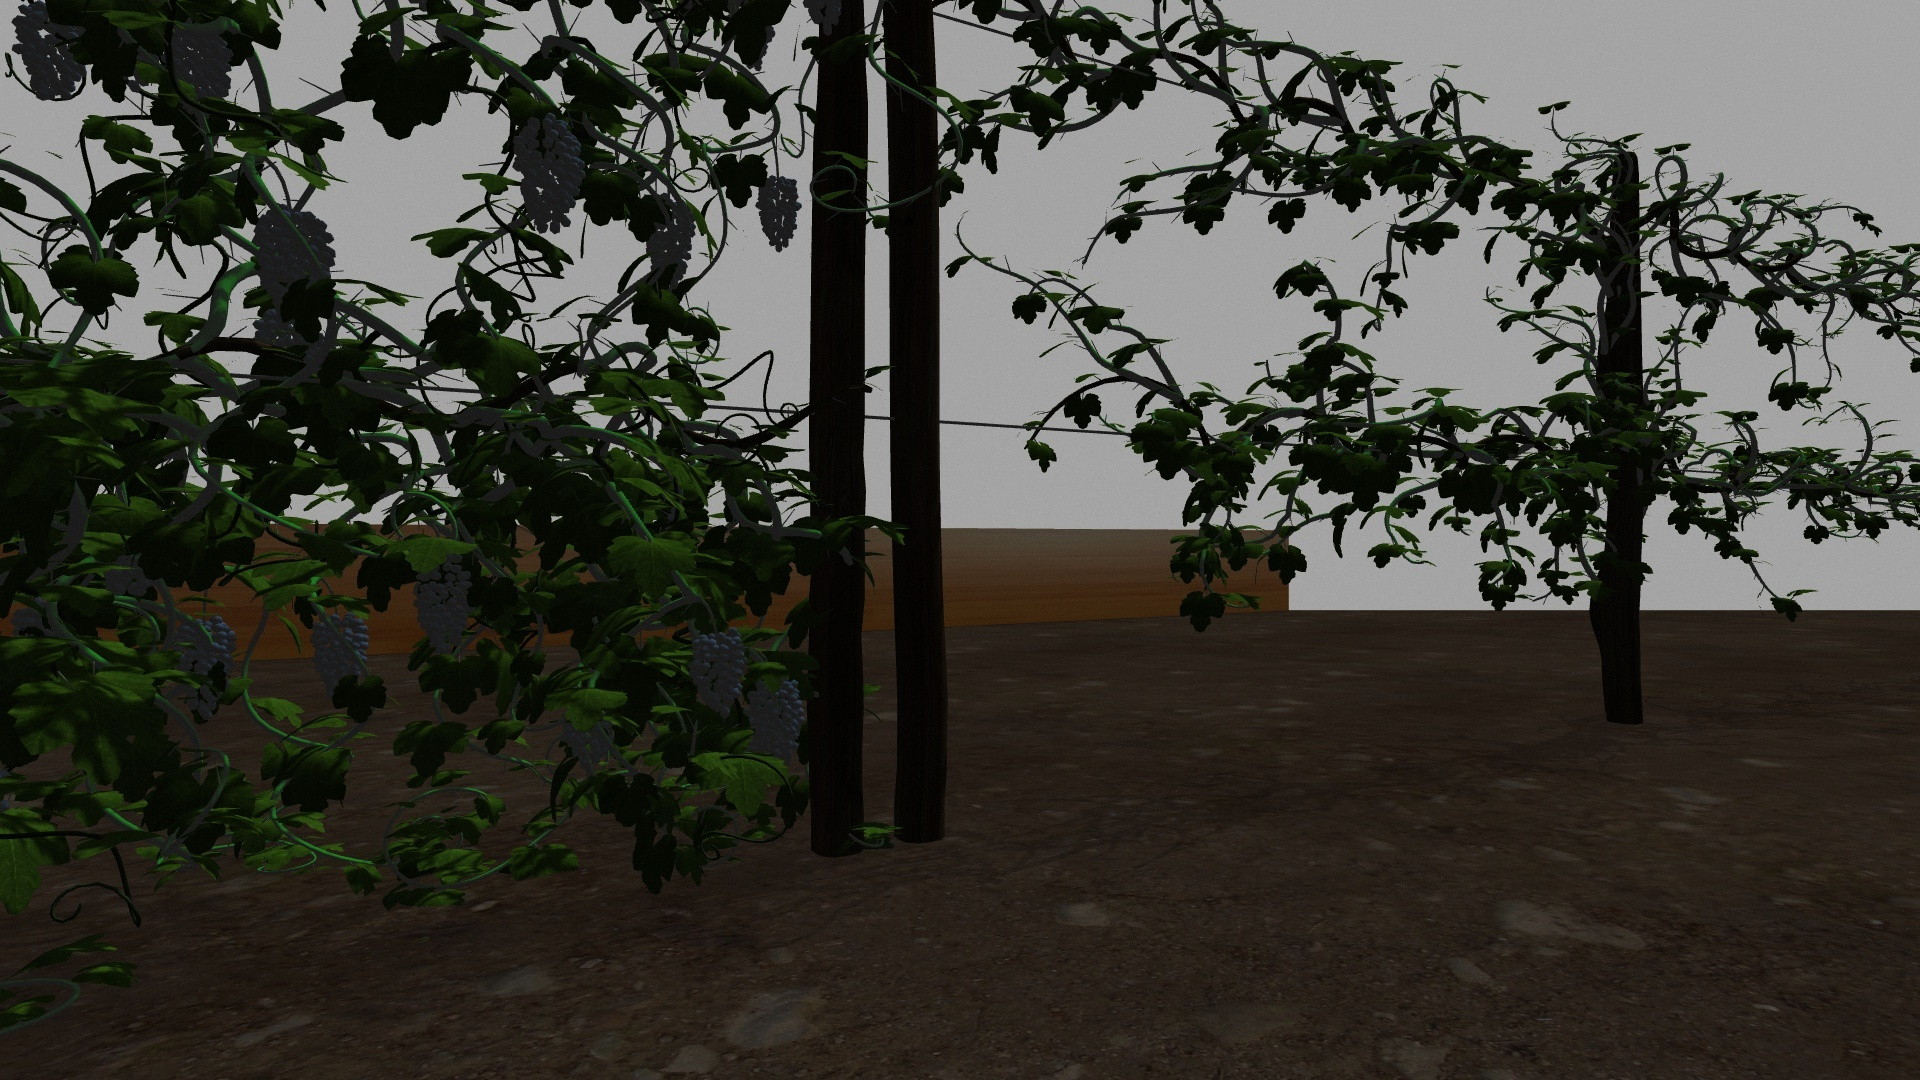grape: (251, 204, 339, 318), (516, 113, 587, 235), (171, 615, 237, 720), (409, 556, 473, 657), (13, 4, 76, 100), (687, 629, 746, 717), (642, 194, 698, 286), (309, 612, 371, 694), (170, 28, 233, 102), (749, 678, 803, 762), (752, 175, 802, 251), (559, 708, 612, 774)
